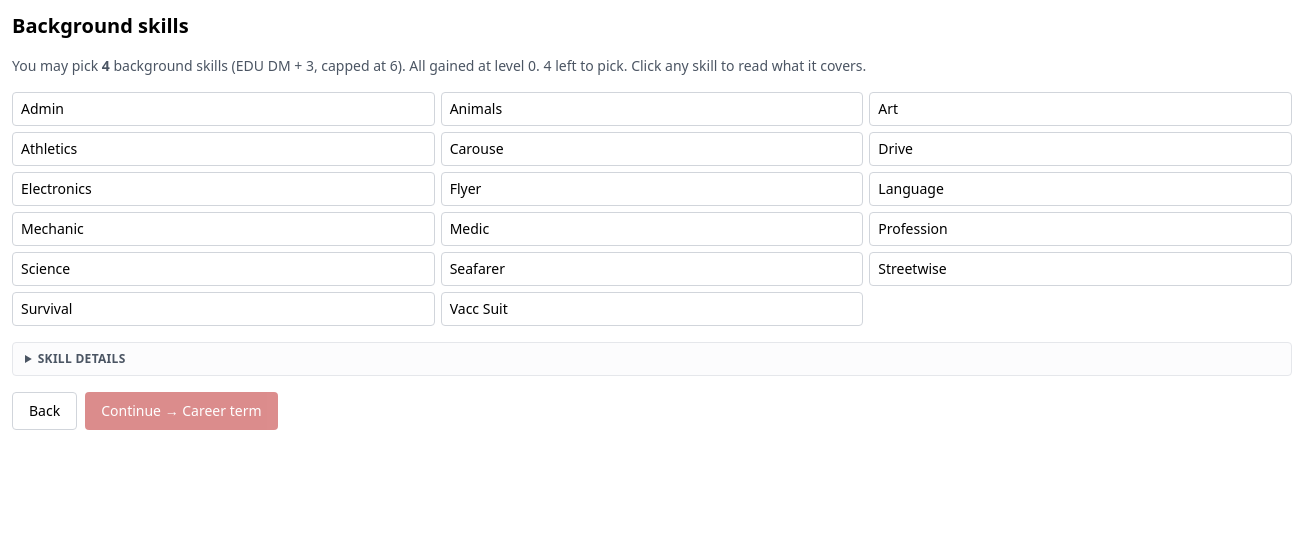
it: BackgroundSkillsStep — click-to-reveal details › shows the skill description when a skill is clicked
Step 1. Click the button "Admin" → click(42, 108), box [12, 92, 435, 126]
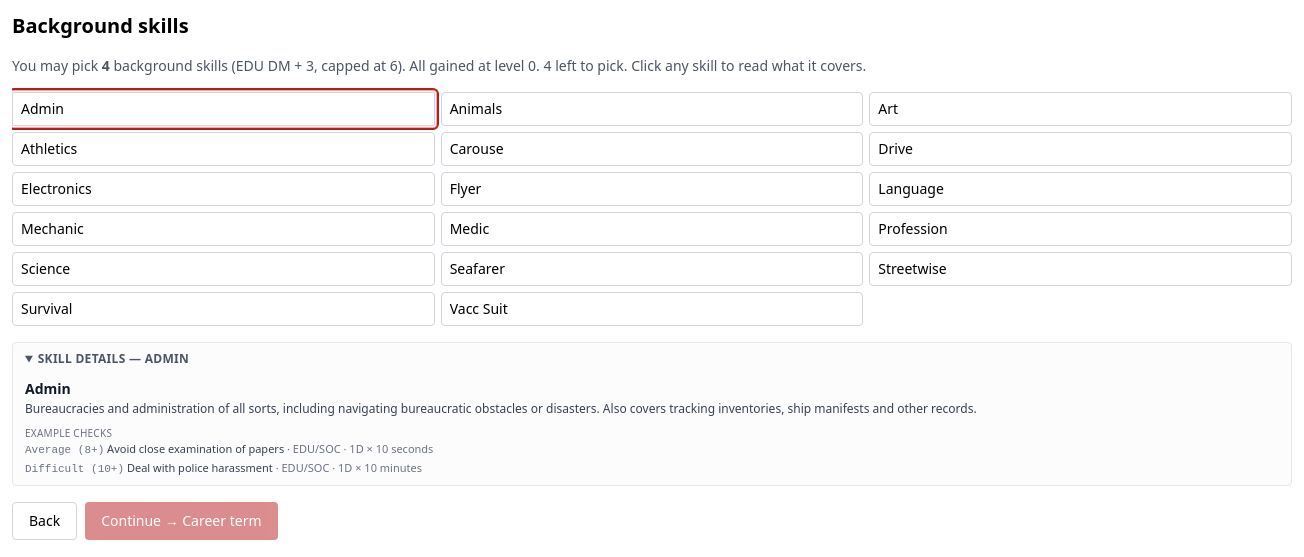
Now the heading "Skill details — Admin" is shown, box [38, 350, 189, 367]
